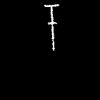double_crochet: (44, 4, 58, 49)
